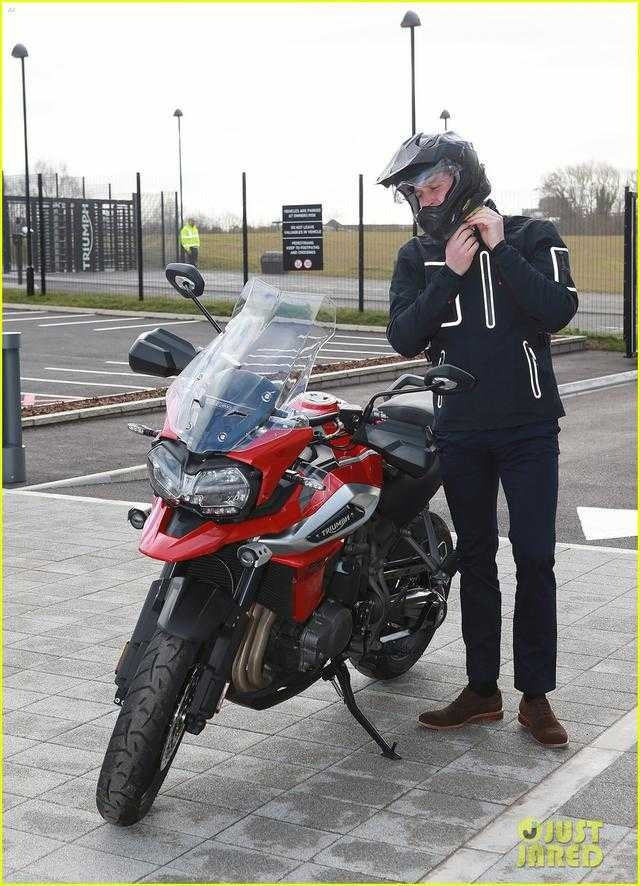motorbike: (94, 263, 472, 829)
